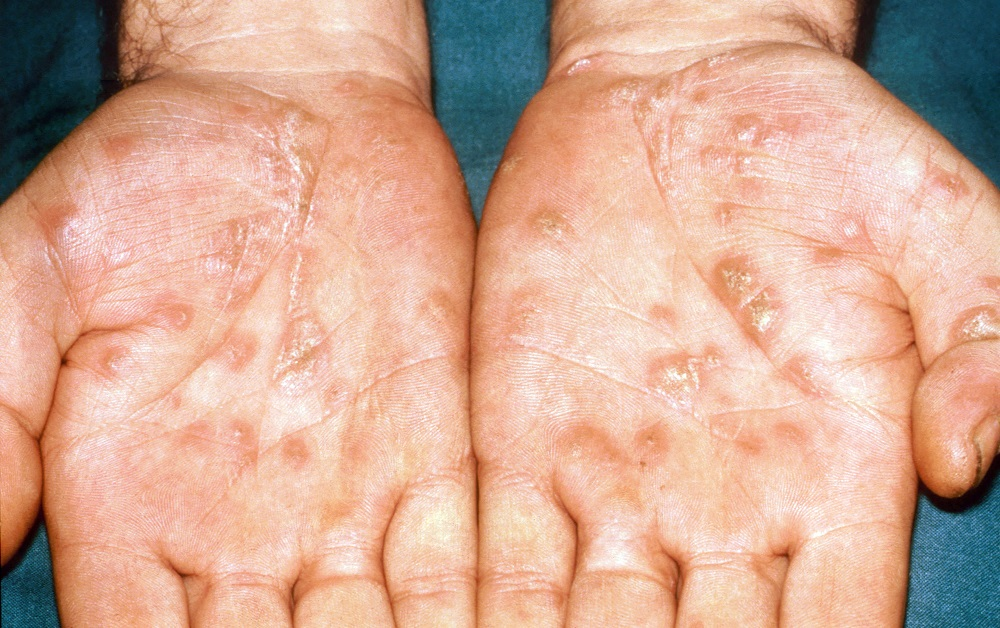Diseased: (109, 77, 913, 579)
